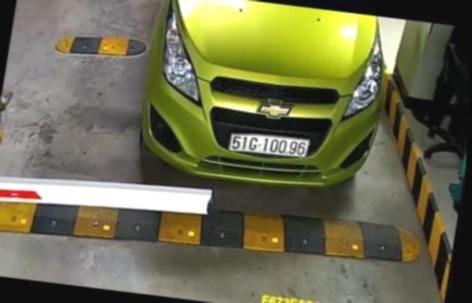License_Plate: (222, 125, 313, 164)
